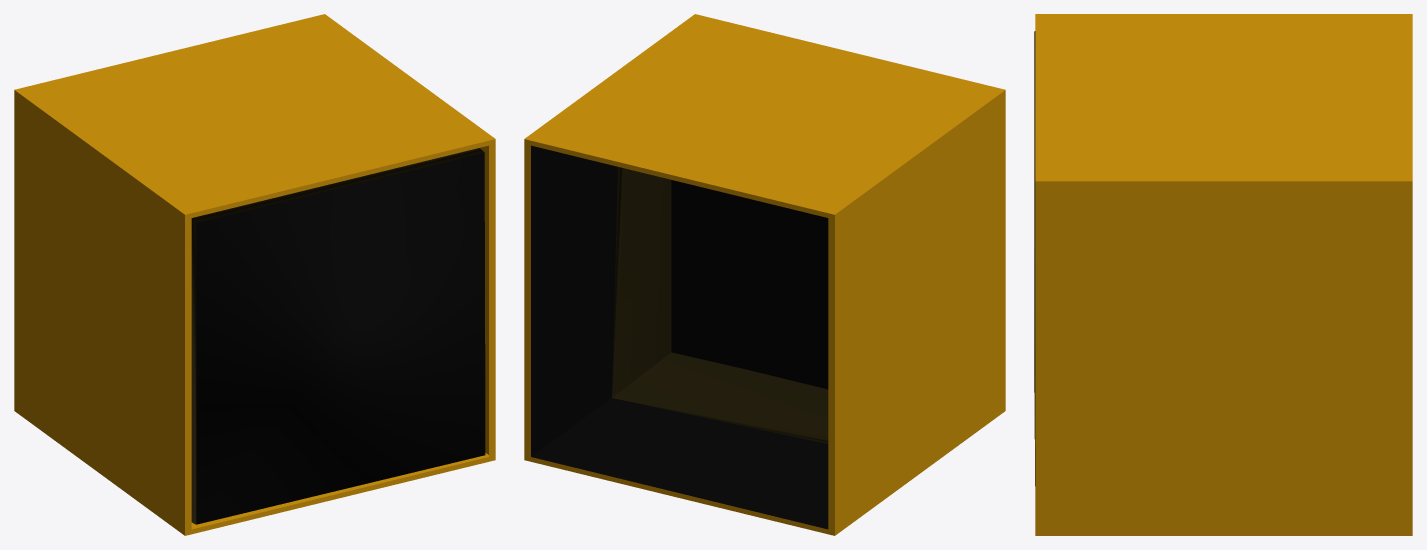
File: frameAmerican_gold.glb
The picture shows the model from 3 angles, left to right: view 1: azimuth 30°, elevation 25°; view 2: azimuth 150°, elevation 25°; view 3: azimuth 270°, elevation 25°; orthographic projection. The views are drawn at different scales.
Parts seen in each view (by area): view 1: Material2, A_PaintingMesh, Material3.003; view 2: Material2, Material3.004, Mat, A_PaintingMesh; view 3: Material2, A_PaintingMesh.
Part boxes in pixels (x1,y1,x2,y2): Material2: (14, 14, 495, 535); A_PaintingMesh: (191, 148, 485, 524); Material3.003: (191, 145, 488, 529); Material2: (524, 14, 1005, 535); Material3.004: (531, 145, 828, 529); Mat: (671, 180, 828, 389); A_PaintingMesh: (612, 167, 828, 443); Material2: (1035, 14, 1412, 535); A_PaintingMesh: (1034, 31, 1035, 485).
Size of what is drawn, in the model's own units: 1.07 by 1.05 by 1.02.
6 materials, 1 textured.
